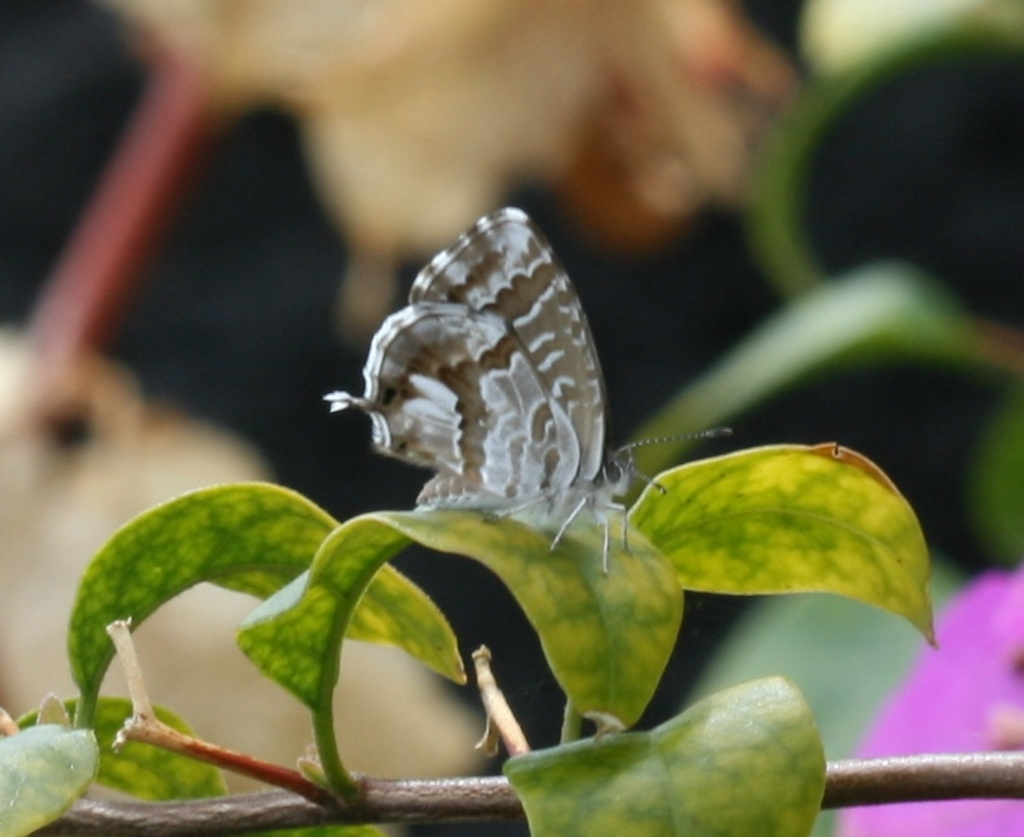Butterfly: (335, 210, 726, 567)
